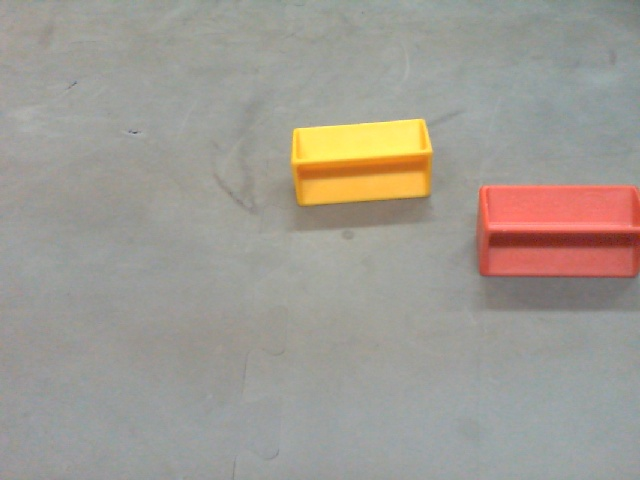RedSample: (474, 182, 640, 282)
YellowSample: (288, 116, 432, 205)
